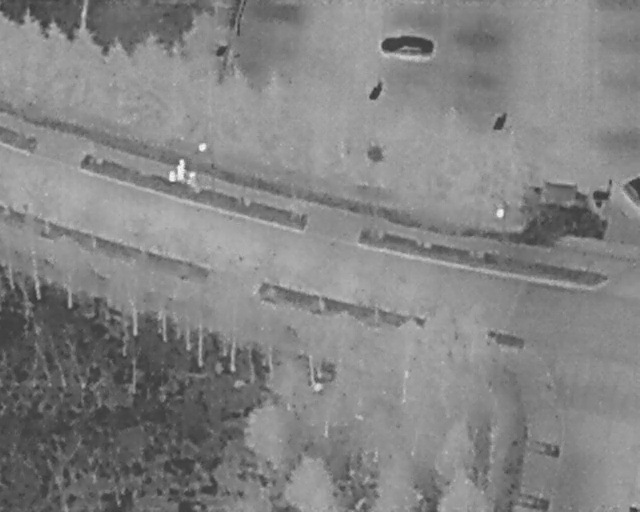Car: (519, 182, 603, 231), (381, 35, 434, 58), (623, 172, 640, 203)
Person: (187, 169, 200, 194), (180, 158, 188, 177), (168, 168, 176, 184), (176, 164, 183, 182)
